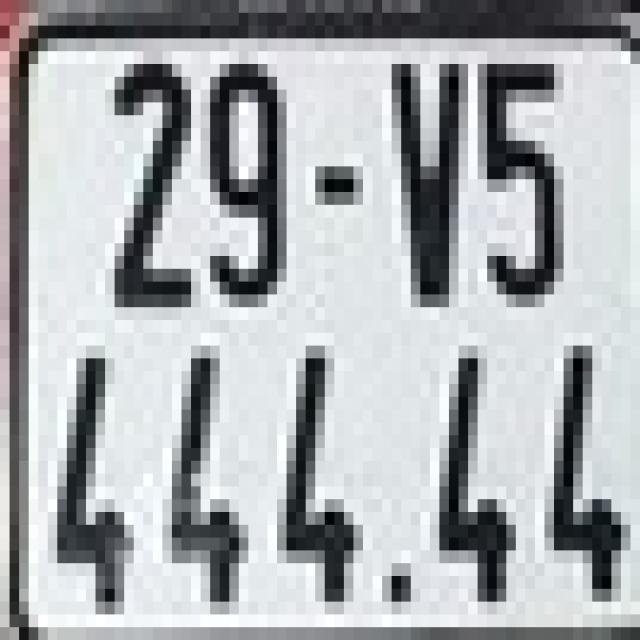2: (105, 51, 201, 307)
4: (544, 332, 630, 602), (162, 346, 248, 614), (277, 346, 363, 614), (430, 346, 516, 614), (48, 346, 134, 614)
5: (478, 51, 564, 307)
9: (200, 51, 286, 307)
V: (382, 51, 468, 307)
